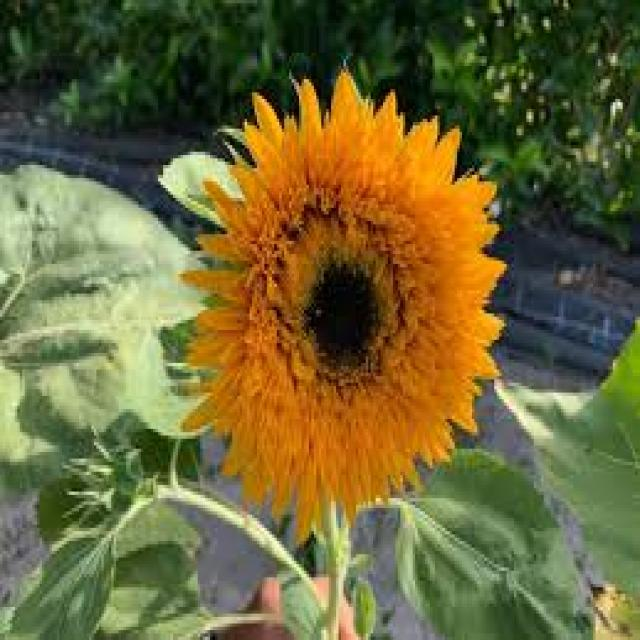sunflower: (169, 64, 512, 549)
